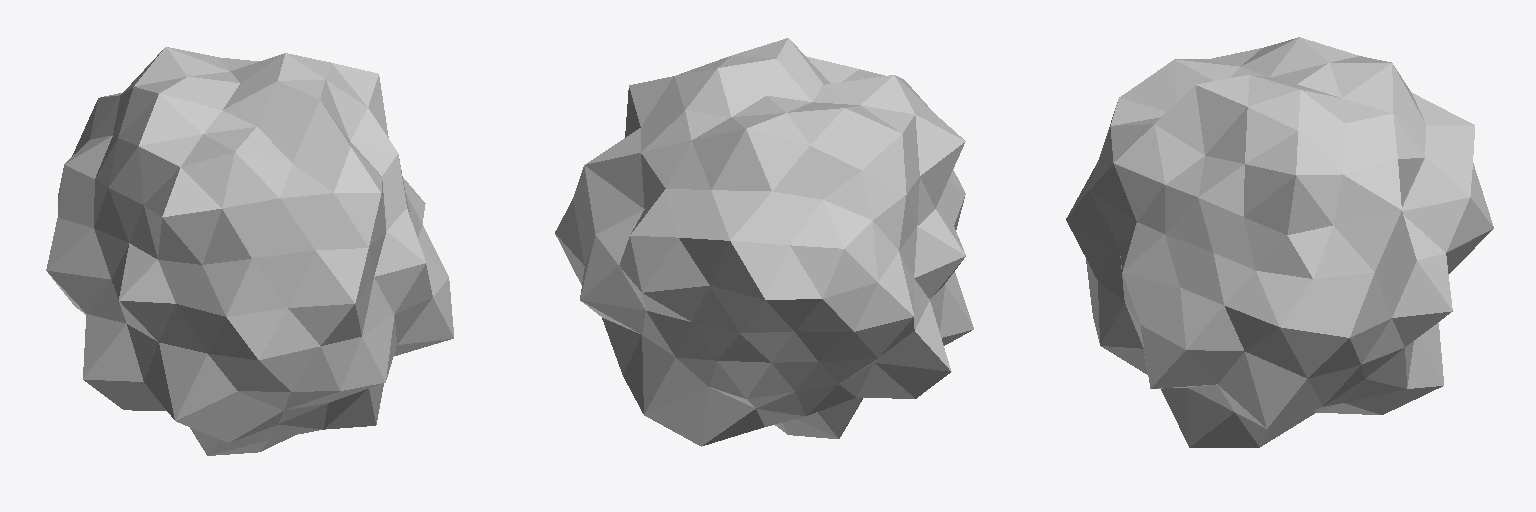
The model's file is asteroid4_collider.obj.
The picture shows the model from 3 angles: view 1: azimuth 30°, elevation 25°; view 2: azimuth 150°, elevation 25°; view 3: azimuth 270°, elevation 25°; orthographic projection.
Visible parts, largest first — view 1: Collider4; view 2: Collider4; view 3: Collider4.
Boxes of the visible parts, x1,y1,x2,y2 form: Collider4: [46, 47, 453, 455]; Collider4: [555, 38, 973, 446]; Collider4: [1066, 37, 1493, 447].
Bounding box in the file's own units: 2.02 × 2.01 × 2.1.